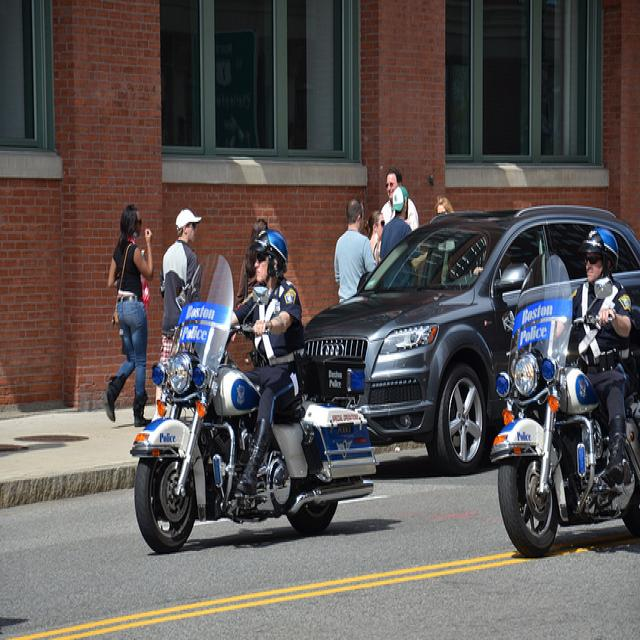motor: (130, 248, 640, 564)
